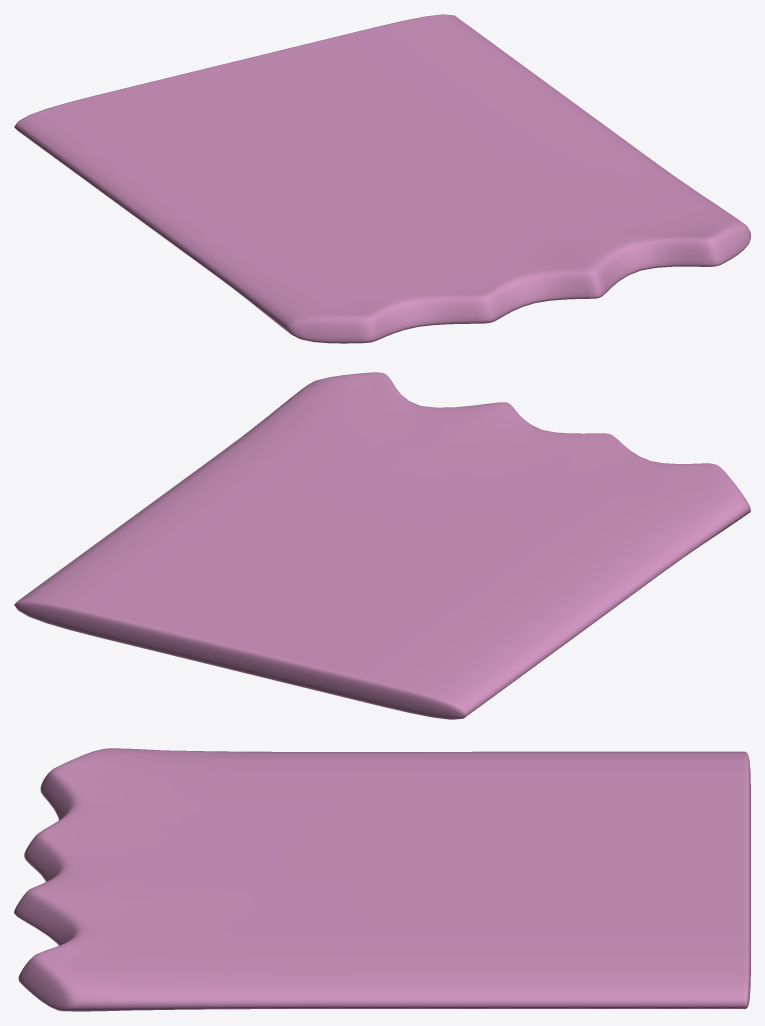
File: CapePieceStraight_TornFront.fbx
3 renders of one model, top to bottom at view 1: azimuth 30°, elevation 25°; view 2: azimuth 150°, elevation 25°; view 3: azimuth 270°, elevation 25°, orthographic. The views are drawn at different scales.
Visible parts, largest first — view 1: CapePieceStraight_TornFront; view 2: CapePieceStraight_TornFront; view 3: CapePieceStraight_TornFront.
Boxes of the visible parts, left/top/right/bottom form: CapePieceStraight_TornFront: left=14, top=14, right=750, bottom=343; CapePieceStraight_TornFront: left=14, top=372, right=750, bottom=719; CapePieceStraight_TornFront: left=14, top=748, right=750, bottom=1011.
Bounding box in the file's own units: 0.7837 × 0.0479 × 0.9639.
